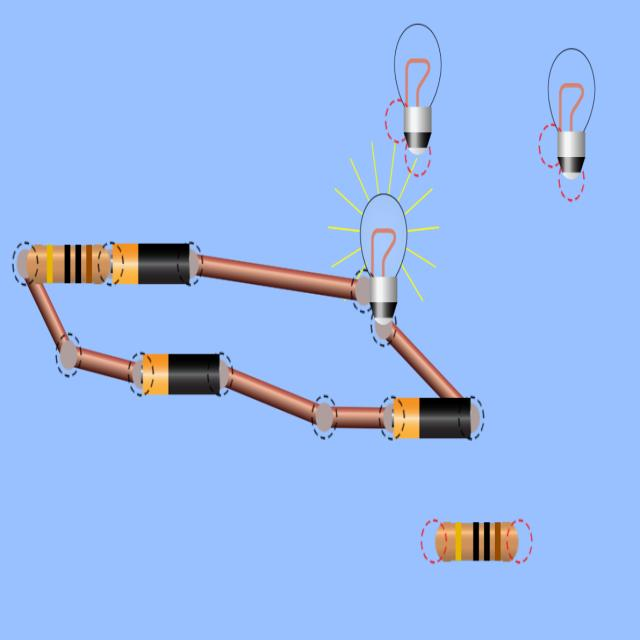Battery: (394, 397, 471, 440), (112, 244, 191, 285), (142, 355, 220, 395)
Light Bulb: (360, 193, 408, 334), (394, 23, 442, 156), (548, 49, 595, 179)
Resistor: (435, 522, 519, 563), (26, 244, 110, 285)
Wire: (198, 255, 356, 299), (390, 326, 462, 396), (226, 370, 314, 422), (28, 282, 68, 348), (76, 348, 134, 381), (332, 408, 384, 429)
